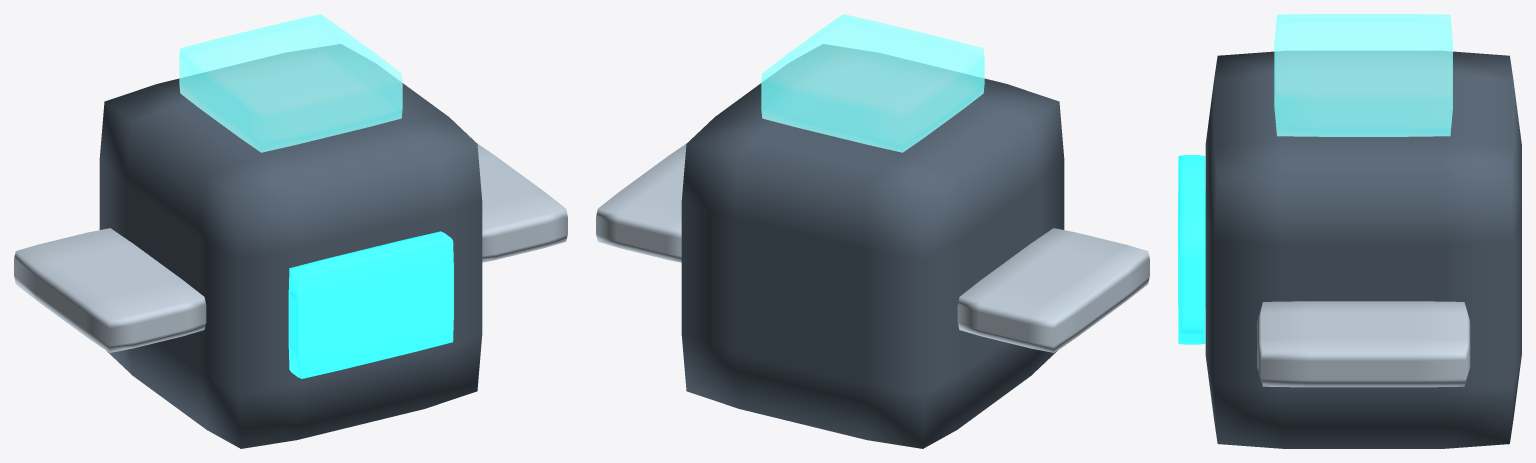
File: companion-cube.glb
3 views of the same model, side by side, from view 1: azimuth 30°, elevation 25°; view 2: azimuth 150°, elevation 25°; view 3: azimuth 270°, elevation 25° (orthographic). The views are drawn at different scales.
Parts seen in each view (by area): view 1: Cube, Top, Face, WingL, WingR; view 2: Cube, Top, WingL, WingR; view 3: Cube, Top, WingR, Face.
Boxes of the visible parts, box(x1,y1,x2,y2) form: Cube: box(99, 44, 482, 448); Top: box(179, 14, 402, 152); Face: box(288, 231, 453, 378); WingL: box(14, 228, 206, 352); WingR: box(477, 144, 567, 262); Cube: box(681, 44, 1064, 448); Top: box(761, 14, 984, 152); WingL: box(957, 228, 1149, 352); WingR: box(596, 144, 686, 262); Cube: box(1205, 51, 1521, 448); Top: box(1274, 14, 1452, 136); WingR: box(1257, 301, 1470, 387); Face: box(1178, 155, 1205, 344).
Bounding box in the file's own units: 1.66 × 1.1 × 1.
